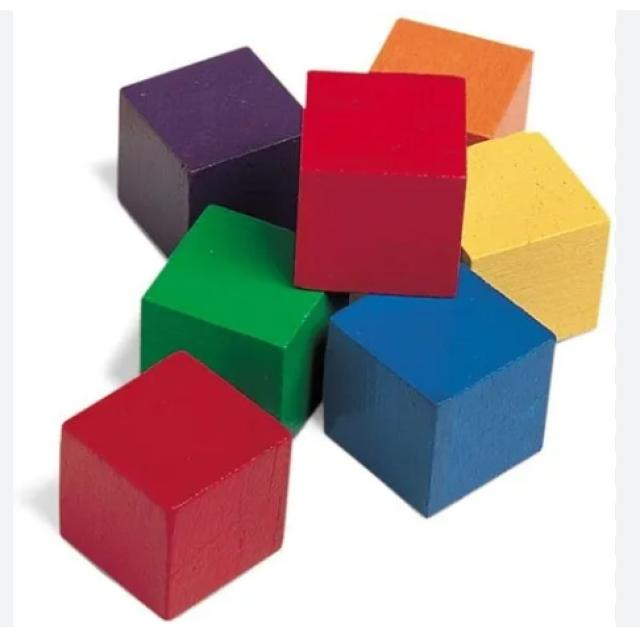bluecube: (324, 261, 559, 518)
green cube: (143, 198, 351, 440)
red cube: (57, 350, 297, 621), (293, 70, 468, 292)
